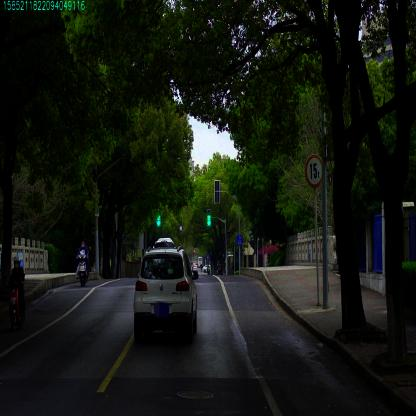traffic-light: (207, 209, 211, 226), (156, 214, 160, 226)
